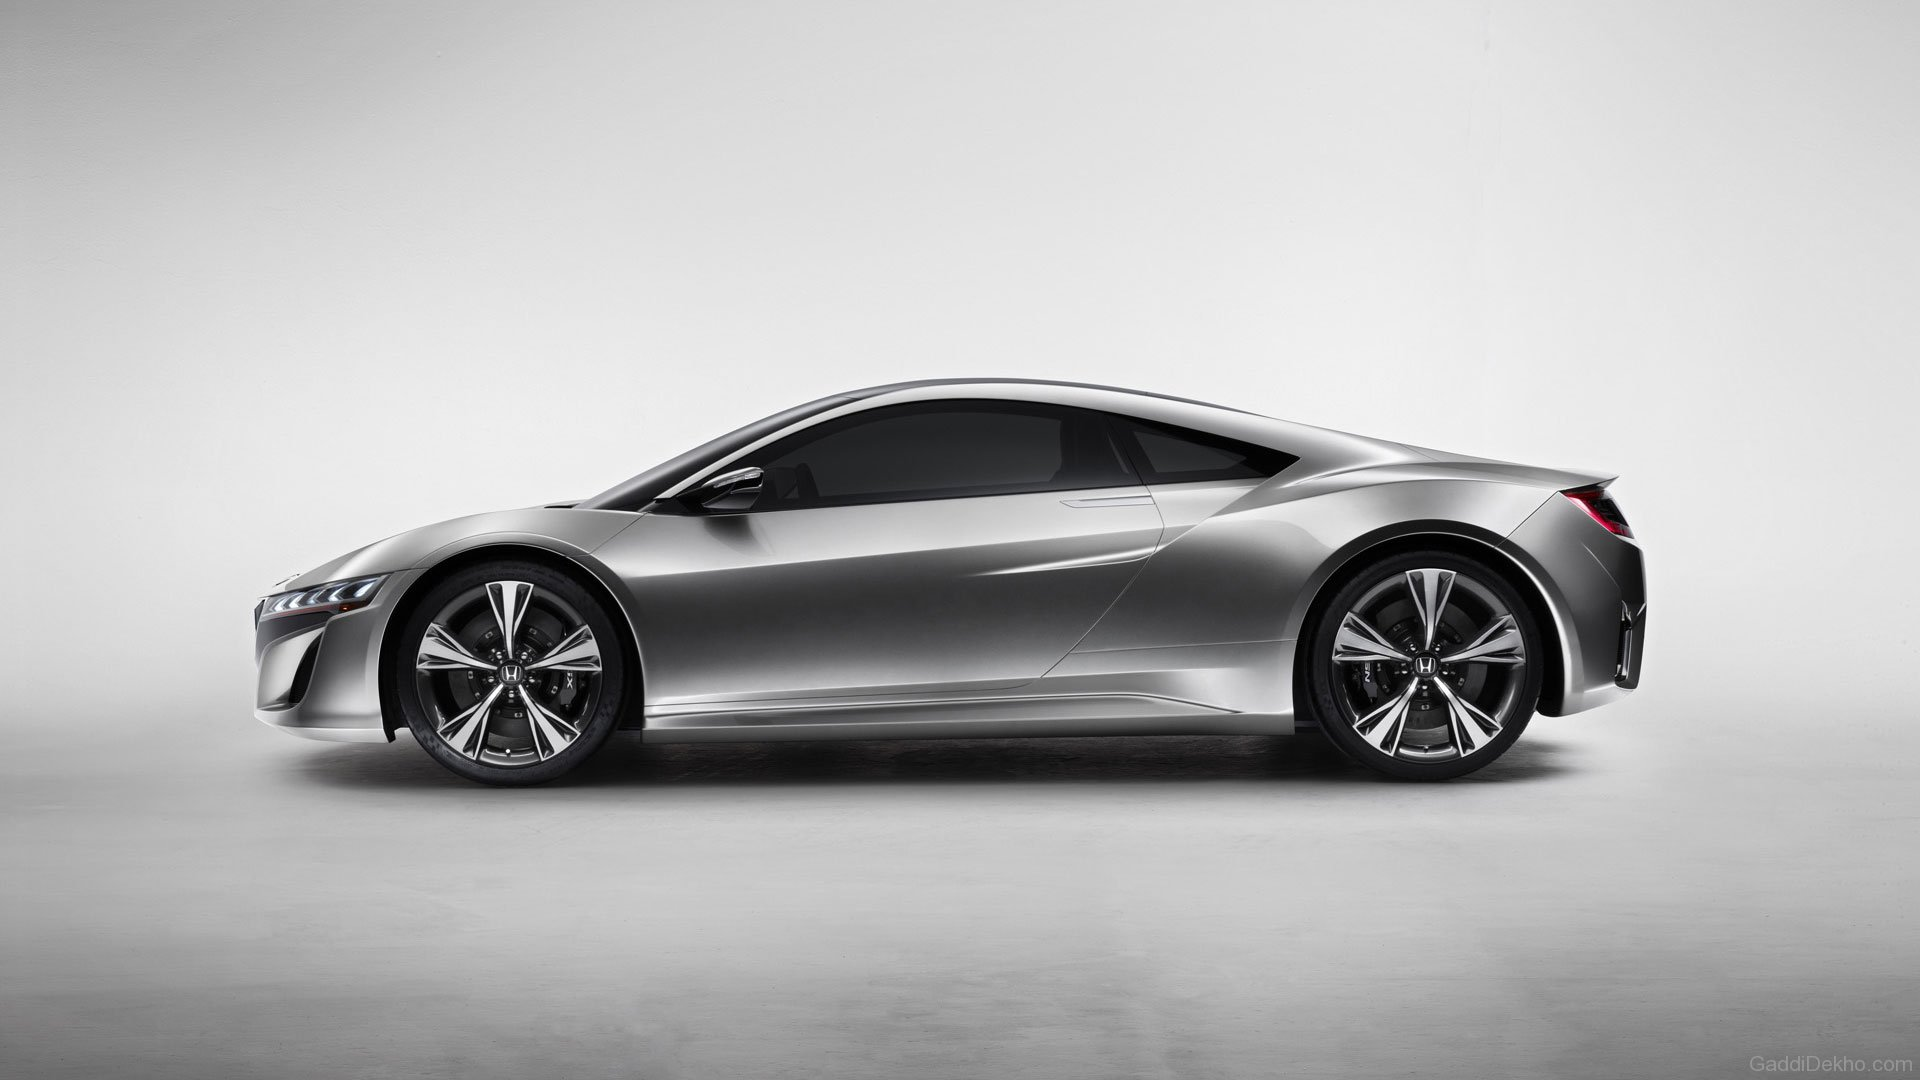car: (256, 376, 1648, 785)
